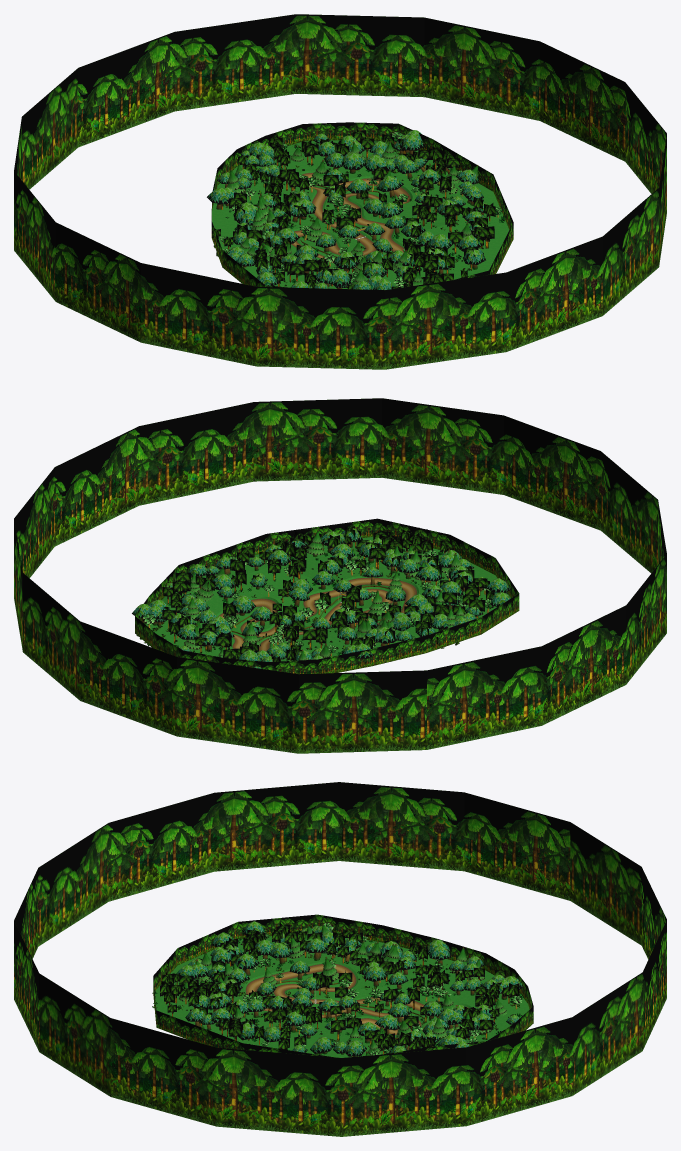
3 renders of one model, top to bottom at view 1: azimuth 30°, elevation 25°; view 2: azimuth 150°, elevation 25°; view 3: azimuth 270°, elevation 25°, orthographic.
Parts seen in each view (by area): view 1: course_model.008, course_model.001, course_model.005, course_model.009, course_model.013, course_model.004, course_model.002, course_model.014; view 2: course_model.008, course_model.001, course_model.005, course_model.013, course_model.009, course_model.004, course_model.002, course_model.014; view 3: course_model.008, course_model.001, course_model.005, course_model.009, course_model.013, course_model.004, course_model.002, course_model.014.
Part boxes in pixels (left/top/right/bottom): course_model.008: left=14, top=14, right=666, bottom=369; course_model.001: left=207, top=130, right=487, bottom=289; course_model.005: left=212, top=129, right=495, bottom=289; course_model.009: left=212, top=140, right=509, bottom=288; course_model.013: left=211, top=122, right=513, bottom=287; course_model.004: left=216, top=137, right=483, bottom=288; course_model.002: left=291, top=172, right=410, bottom=267; course_model.014: left=220, top=131, right=502, bottom=288; course_model.008: left=14, top=398, right=666, bottom=753; course_model.001: left=132, top=527, right=513, bottom=668; course_model.005: left=161, top=526, right=494, bottom=661; course_model.013: left=135, top=518, right=519, bottom=673; course_model.009: left=145, top=536, right=510, bottom=661; course_model.004: left=139, top=530, right=482, bottom=660; course_model.002: left=217, top=577, right=417, bottom=651; course_model.014: left=142, top=550, right=493, bottom=657; course_model.008: left=14, top=782, right=666, bottom=1136; course_model.001: left=176, top=921, right=522, bottom=1056; course_model.005: left=160, top=923, right=519, bottom=1056; course_model.009: left=155, top=936, right=529, bottom=1057; course_model.013: left=153, top=914, right=533, bottom=1057; course_model.004: left=179, top=924, right=512, bottom=1056; course_model.002: left=245, top=963, right=469, bottom=1043; course_model.014: left=193, top=923, right=521, bottom=1055.
Size of the model in its own units: 167106 by 23591 by 167106.
Materials: 15 (15 with a texture image).
